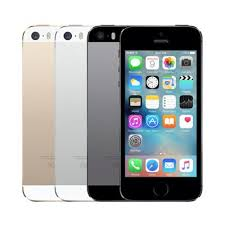iphone: (117, 23, 204, 204)
iphone5: (116, 22, 203, 203)
